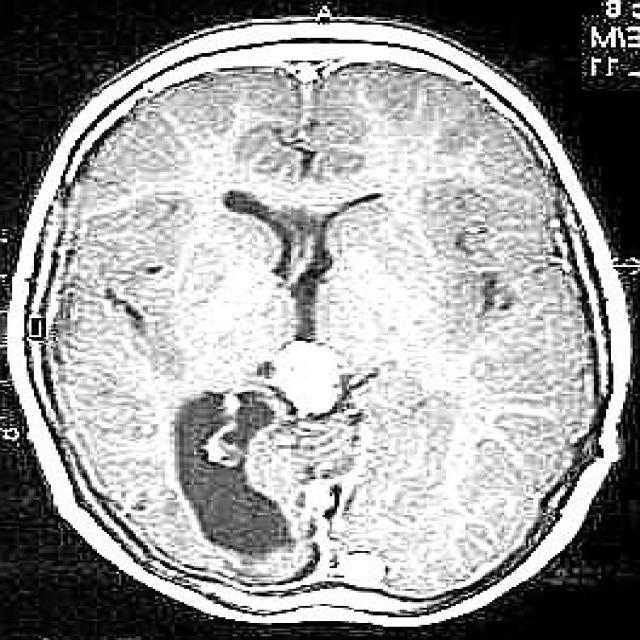brain tumor: (172, 390, 291, 553)
